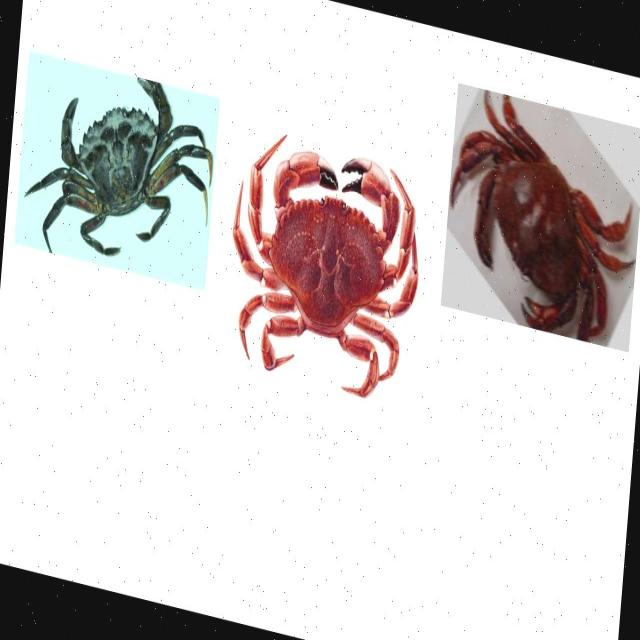egc: (25, 75, 214, 258)
